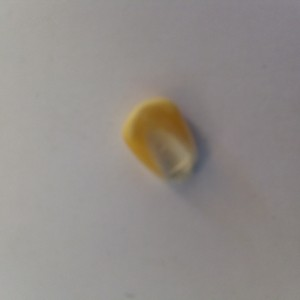maiz: (114, 91, 209, 188)
